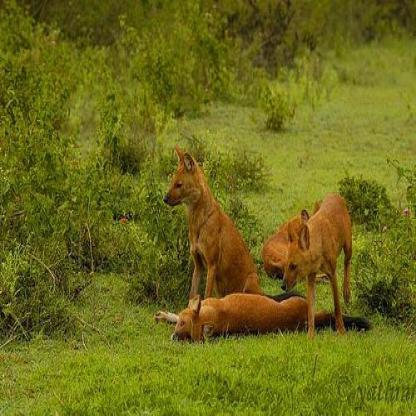dhole: (162, 144, 259, 296), (150, 286, 374, 343), (282, 190, 353, 338), (261, 200, 331, 283)
